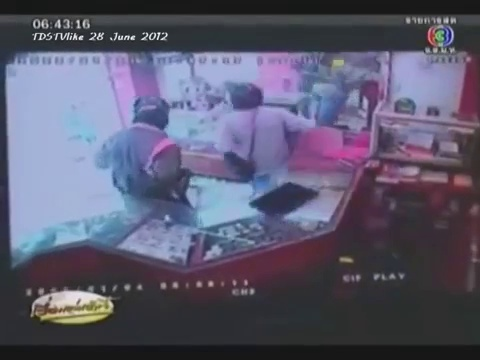helmet: (131, 92, 167, 124), (225, 82, 265, 106)
